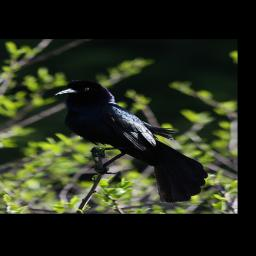Crow: (53, 79, 207, 202)
